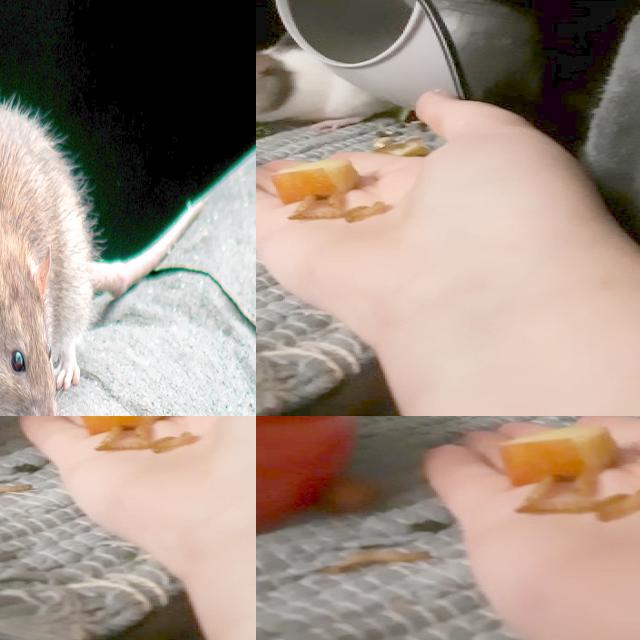rat: (0, 76, 144, 416), (256, 41, 389, 132)
